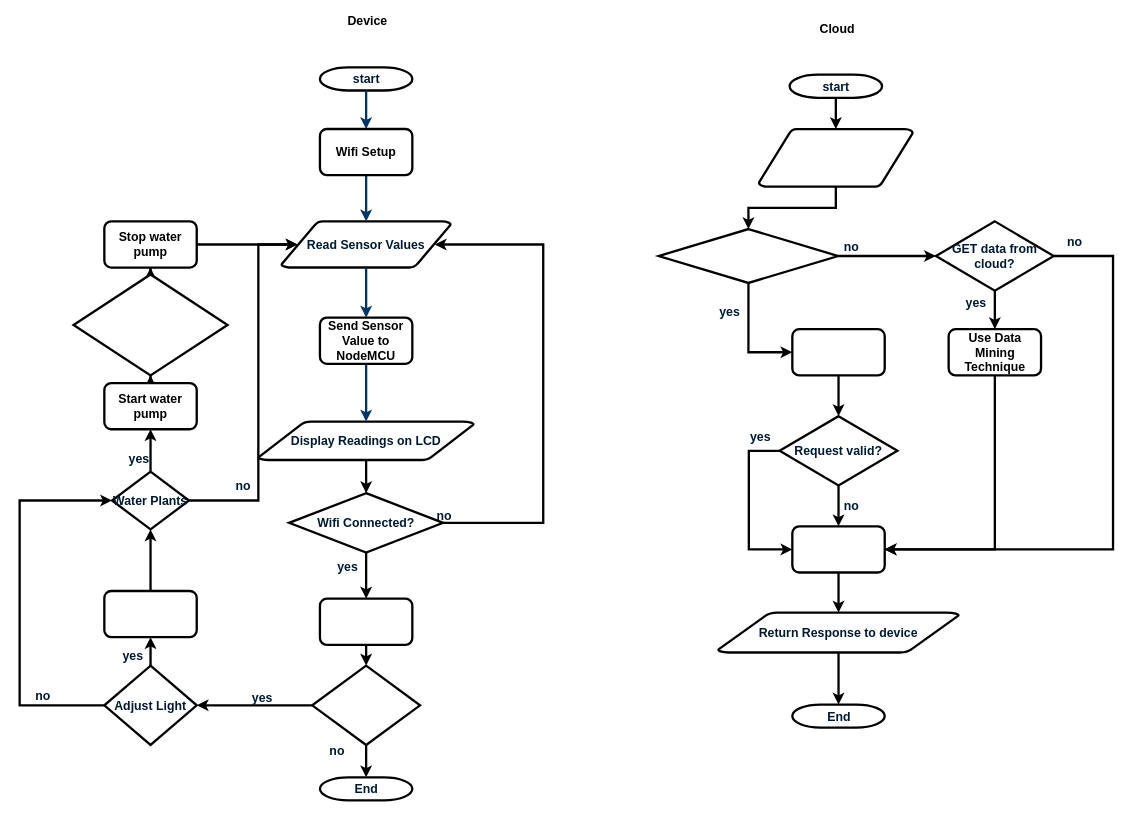
Image size: 1133x815. Some labels were removed from this diagram. Each missing label, with the centre of its shape:
"Check for Device Response" goes at [835,157].
"Make Light Adjustment" goes at [150,613].
"POST data to cloud?" goes at [748,256].
"Prepare Response" goes at [838,549].
"Receive Command From Cloud" goes at [366,705].
"Send Data to Cloud" goes at [365,621].
"Soil moisture limit reached?" goes at [150,324].
"Verify Data" goes at [838,352].
